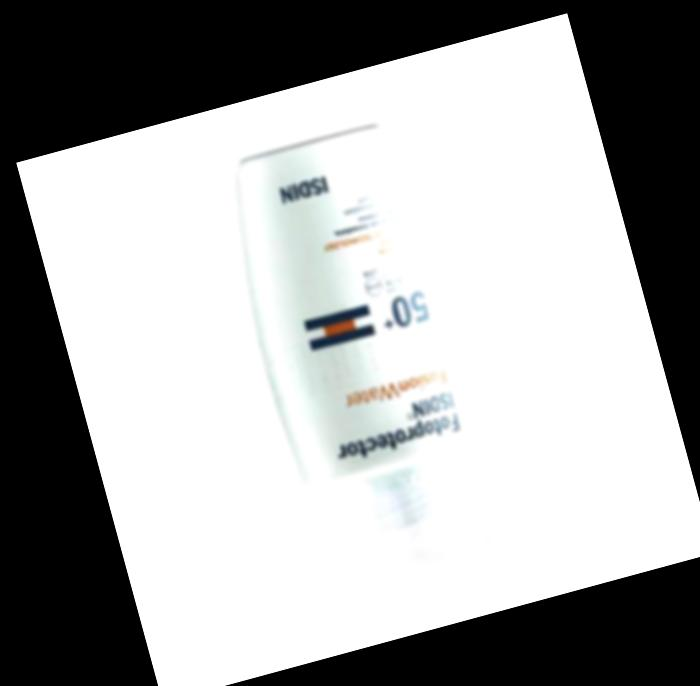cosmetic: (209, 113, 517, 593)
